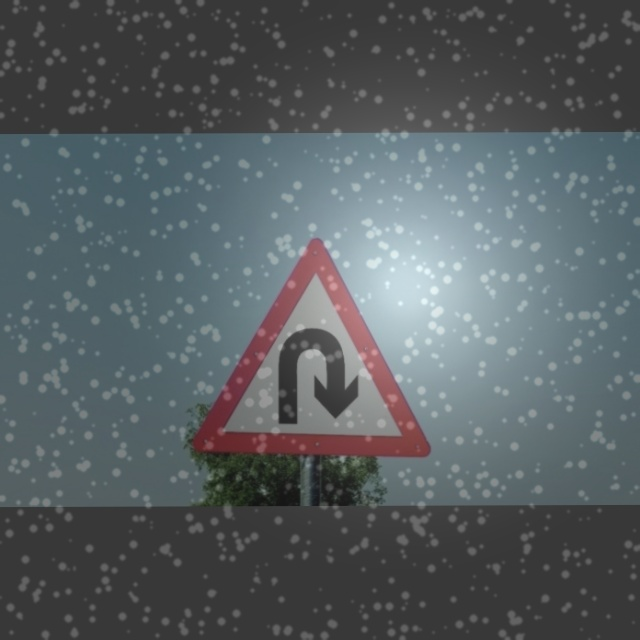Right_Hair_Pin_Bend: (199, 236, 436, 456)
